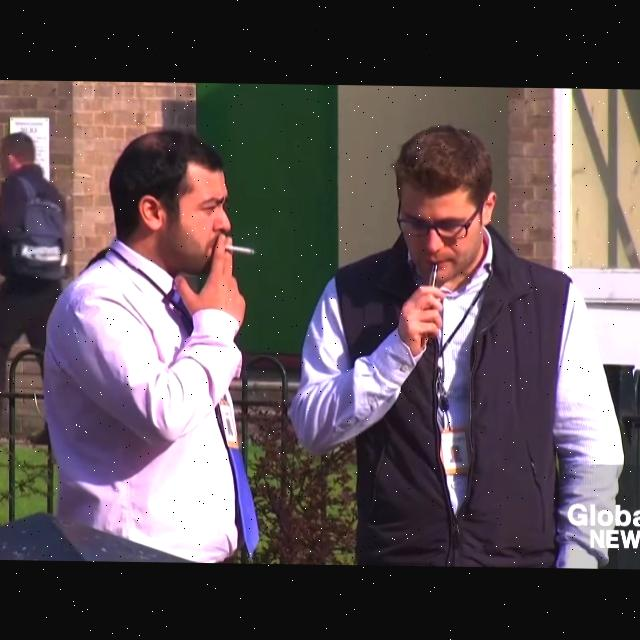cigarette: (225, 245, 257, 254)
vape: (428, 261, 438, 285)
